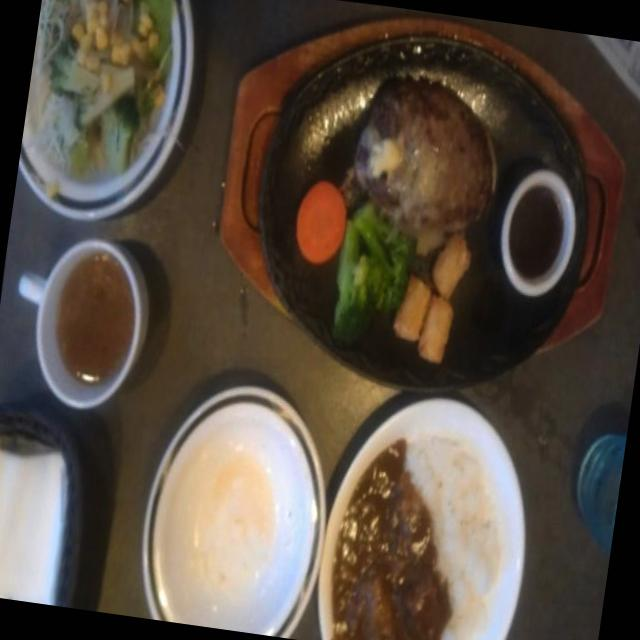Beef Curry: (312, 444, 459, 640)
